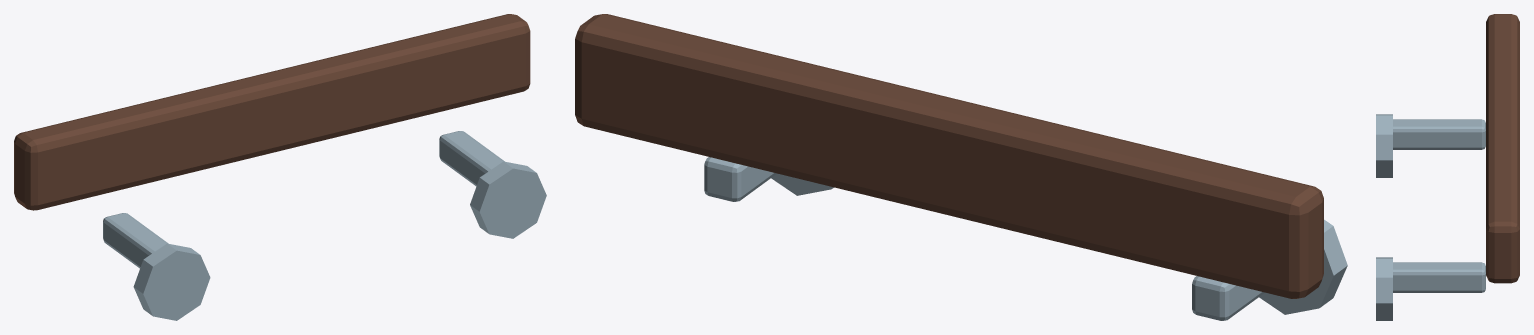
The model's file is bike_hooks.glb.
3 views of the same model, side by side, from view 1: azimuth 30°, elevation 25°; view 2: azimuth 150°, elevation 25°; view 3: azimuth 270°, elevation 25° (orthographic). The views are drawn at different scales.
Parts seen in each view (by area): view 1: bike_hooks; view 2: bike_hooks; view 3: bike_hooks.
Boxes of the visible parts, left/top/right/bottom form: bike_hooks: left=14, top=14, right=546, bottom=320; bike_hooks: left=575, top=14, right=1347, bottom=320; bike_hooks: left=1376, top=14, right=1519, bottom=320.
Bounding box in the file's own units: 0.6 × 0.17 × 0.17.
